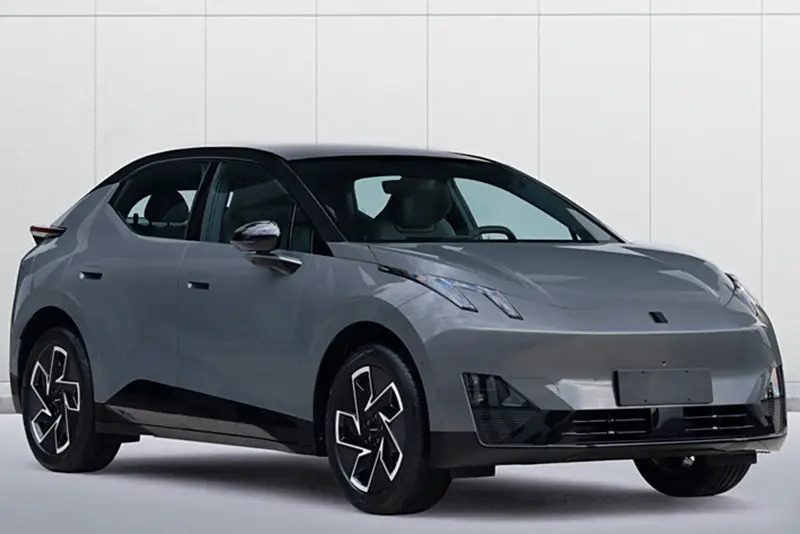LINK&CO: (649, 312, 667, 323)
